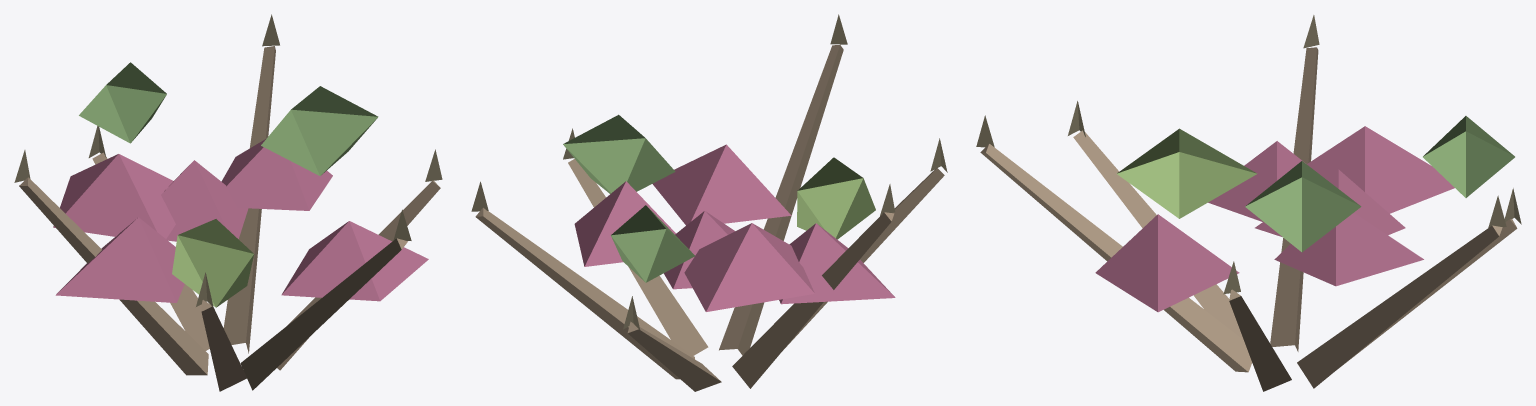
File: shrub.trop.dry_scrub__bloom.glb
The picture shows the model from 3 angles, left to right: view 1: azimuth 30°, elevation 25°; view 2: azimuth 150°, elevation 25°; view 3: azimuth 270°, elevation 25°; orthographic projection. The views are drawn at different scales.
Parts seen in each view (by area): view 1: shrub.trop.dry_scrub__bloom; view 2: shrub.trop.dry_scrub__bloom; view 3: shrub.trop.dry_scrub__bloom.
Boxes of the visible parts, box(x1,y1,x2,y2) form: shrub.trop.dry_scrub__bloom: box(14, 14, 442, 391); shrub.trop.dry_scrub__bloom: box(471, 14, 947, 391); shrub.trop.dry_scrub__bloom: box(976, 15, 1521, 391).
Bounding box in the file's own units: 1.81 × 1.19 × 2.17.
